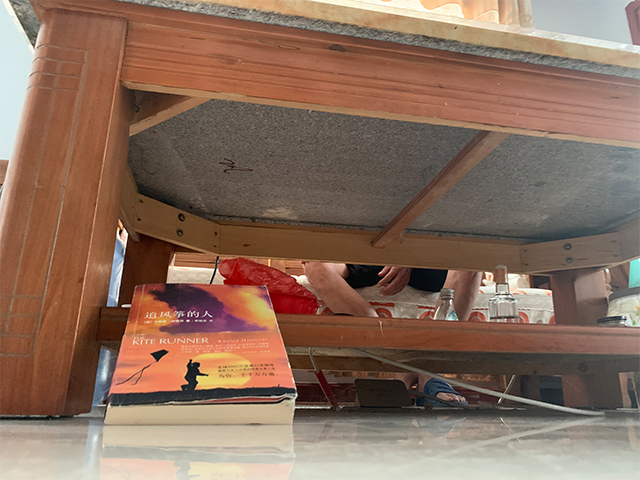book: (102, 283, 299, 428)
table: (1, 1, 640, 420)
wire: (307, 360, 597, 417)
